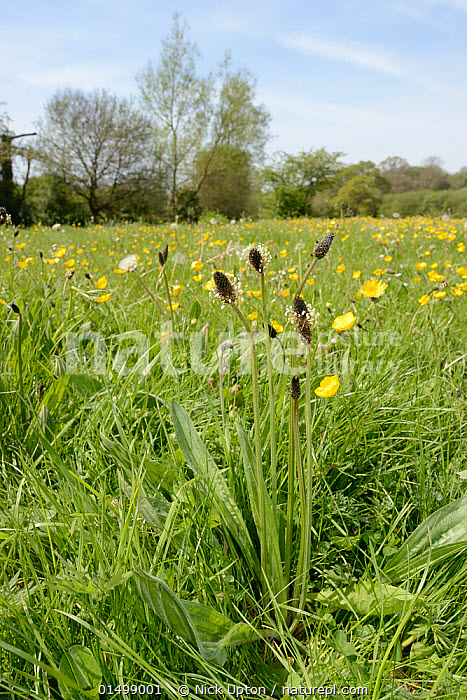buckhorn plantain: (154, 250, 340, 609)
